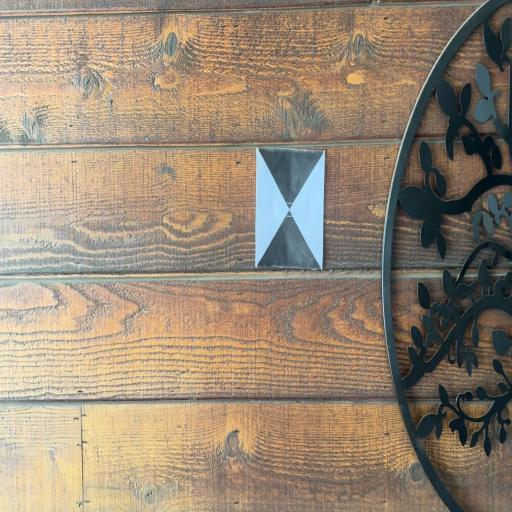target: (257, 150, 323, 268)
